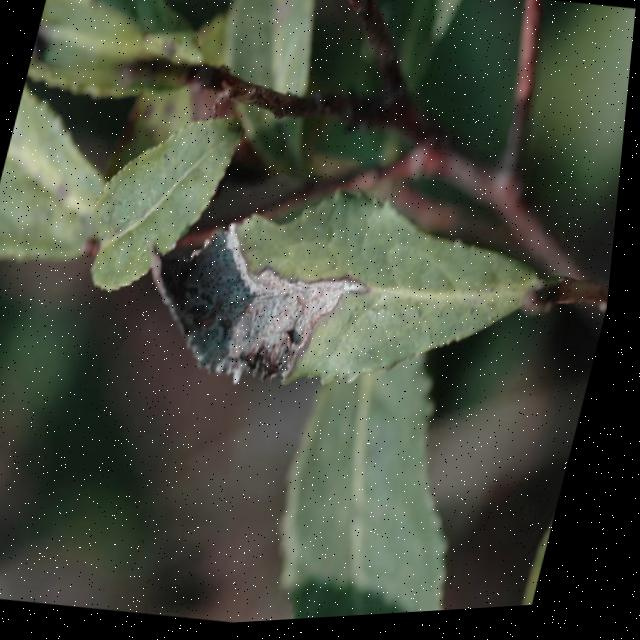Tea cloud leaf blight: (105, 194, 401, 408)
